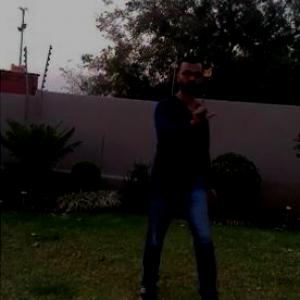land_hand: (187, 90, 220, 127)
